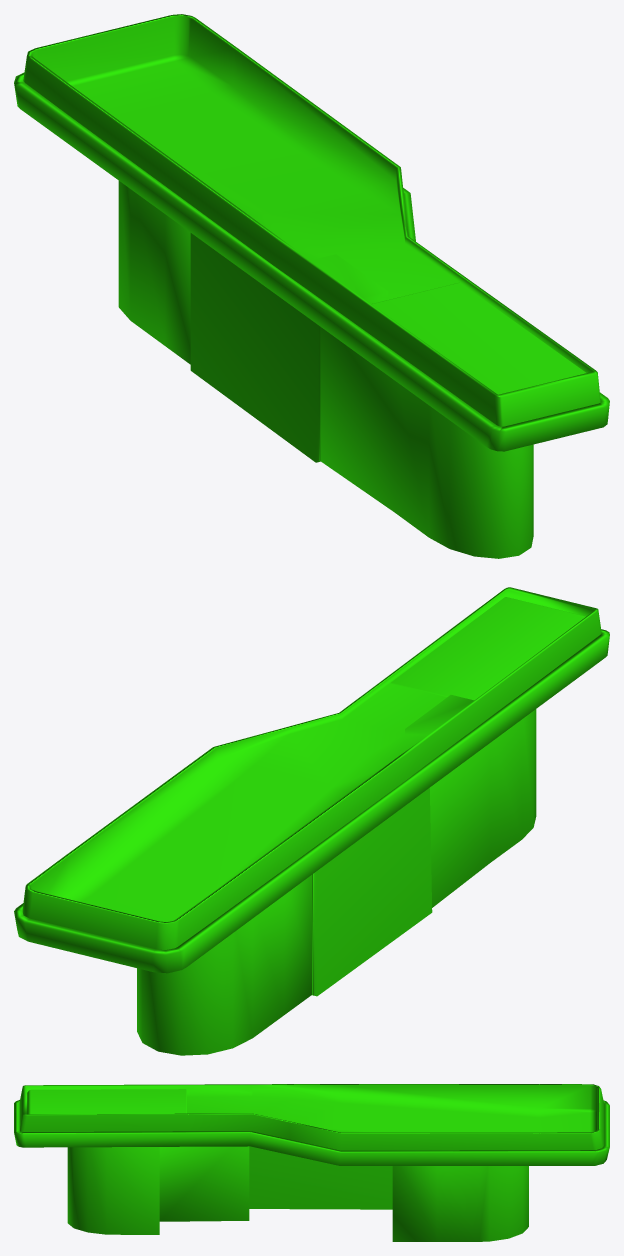
Rendered from Supermarket_Checkout_Lod1.fbx.
3 views of the same model, one above another, from view 1: azimuth 30°, elevation 25°; view 2: azimuth 150°, elevation 25°; view 3: azimuth 270°, elevation 25° (orthographic). The views are drawn at different scales.
Visible parts, largest first — view 1: Supermarket_Checkout_Lod1; view 2: Supermarket_Checkout_Lod1; view 3: Supermarket_Checkout_Lod1.
Part boxes in pixels (x1,y1,x2,y2): Supermarket_Checkout_Lod1: (14, 14, 609, 558); Supermarket_Checkout_Lod1: (14, 587, 609, 1055); Supermarket_Checkout_Lod1: (14, 1084, 609, 1241).
Size of the model in its own units: 84.58 by 86.63 by 386.
